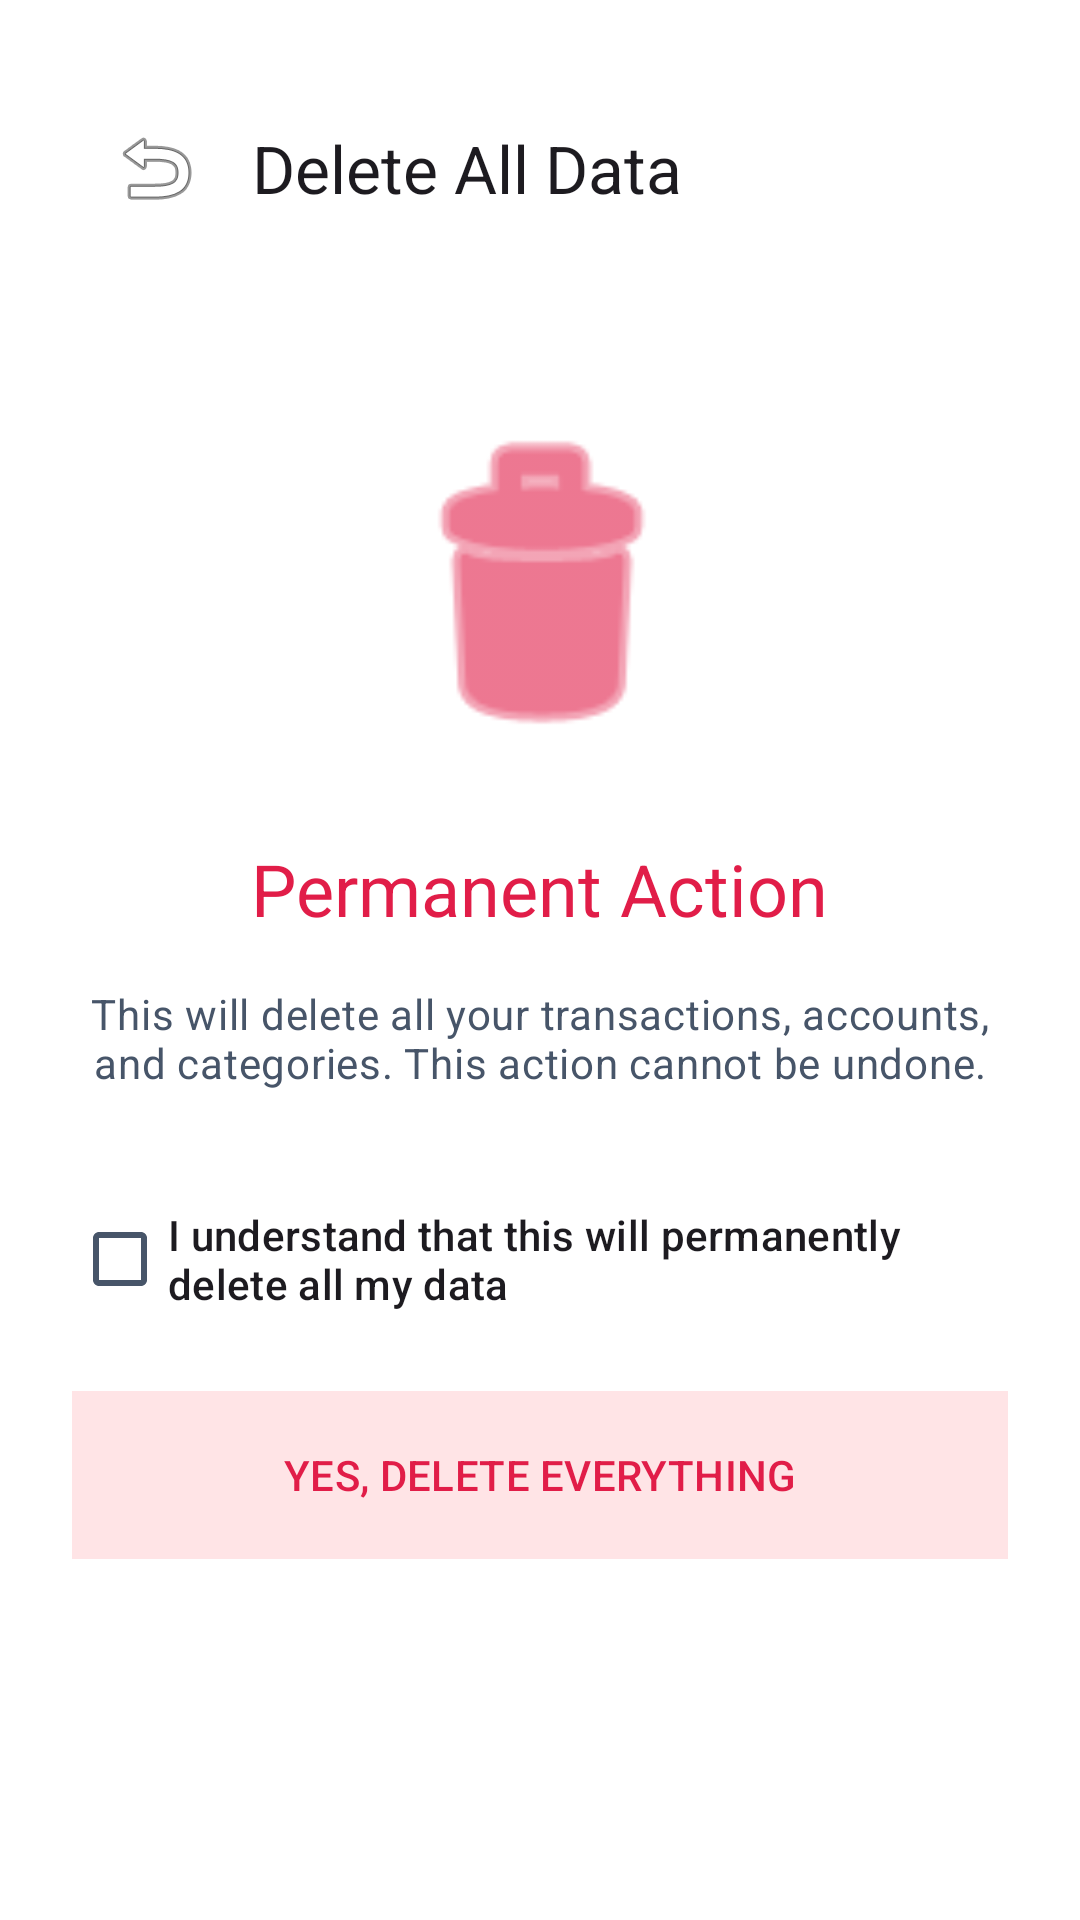

Locate icon controls on the screen. Image size 1080×1920, boxes as (x1, y1, x2, y2).
delete: (440, 441, 644, 723)
